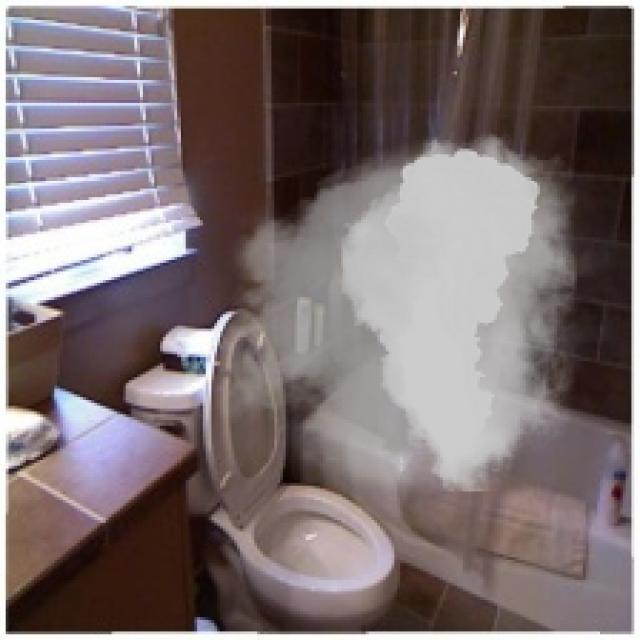smoke: (192, 123, 608, 517)
